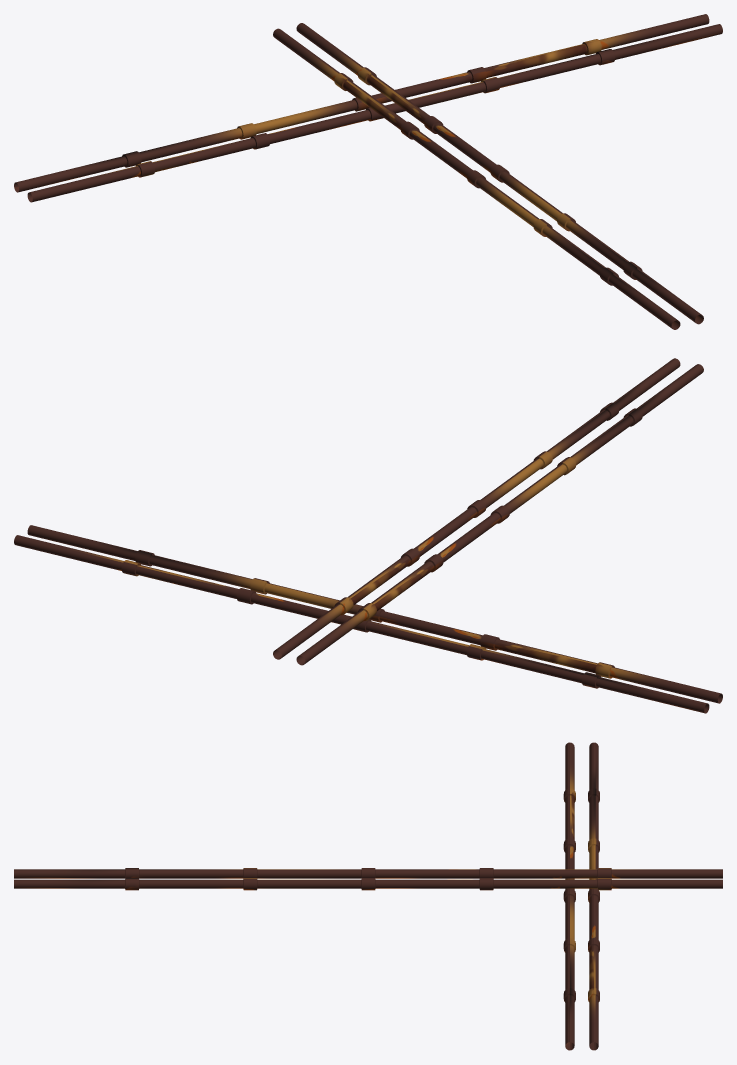
File: pipes.fbx
3 renders of one model, top to bottom at view 1: azimuth 30°, elevation 25°; view 2: azimuth 150°, elevation 25°; view 3: azimuth 270°, elevation 25°, orthographic. The views are drawn at different scales.
Visible parts, largest first — view 1: pipe 2; view 2: pipe 2; view 3: pipe 2.
Boxes of the visible parts, box(x1,y1,x2,y2) form: pipe 2: box(14, 14, 722, 329); pipe 2: box(14, 358, 722, 713); pipe 2: box(14, 742, 722, 1050).
Bounding box in the file's own units: 929 × 41.24 × 929.
